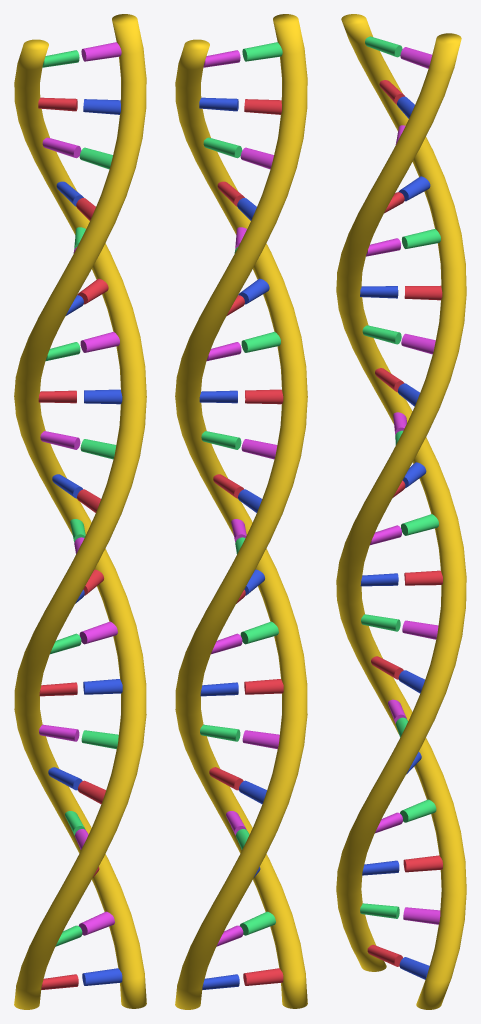
File: DNARenamed.fbx
The picture shows the model from 3 angles, left to right: view 1: azimuth 30°, elevation 25°; view 2: azimuth 210°, elevation 25°; view 3: azimuth 330°, elevation 25°; orthographic projection.
Visible parts, largest first — view 1: Cylinder, Blue.009, Blue.006, Pink.001, Pink.004, Blue.003, Blue, Pink.007, Green.008, Green.005, Pink, Pink.008 (+15 smaller); view 2: Cylinder, Red.009, Red.006, Green.001, Green.004, Red.003, Red, Green.007, Pink.008, Green, Pink.005, Green.008 (+15 smaller); view 3: Cylinder, Red.008, Red.005, Green.003, Pink, Green.006, Red.002, Pink.007, Green.009, Green, Pink.004, Green.007 (+15 smaller).
Boxes of the visible parts, left/top/right/bottom form: Cylinder: left=14, top=14, right=146, bottom=1009; Blue.009: left=82, top=968, right=122, bottom=985; Blue.006: left=83, top=679, right=122, bottom=694; Pink.001: left=81, top=42, right=121, bottom=61; Pink.004: left=80, top=331, right=119, bottom=352; Blue.003: left=84, top=389, right=122, bottom=404; Blue: left=83, top=99, right=120, bottom=114; Pink.007: left=79, top=621, right=117, bottom=644; Green.008: left=81, top=730, right=118, bottom=749; Green.005: left=80, top=439, right=116, bottom=459; Pink: left=78, top=911, right=114, bottom=935; Pink.008: left=39, top=724, right=79, bottom=741; Cylinder: left=175, top=14, right=307, bottom=1009; Red.009: left=243, top=968, right=283, bottom=985; Red.006: left=244, top=679, right=283, bottom=694; Green.001: left=242, top=42, right=282, bottom=61; Green.004: left=241, top=331, right=280, bottom=352; Red.003: left=245, top=389, right=283, bottom=404; Red: left=244, top=99, right=281, bottom=114; Green.007: left=240, top=621, right=278, bottom=644; Pink.008: left=242, top=730, right=279, bottom=749; Green: left=239, top=911, right=275, bottom=935; Pink.005: left=241, top=439, right=277, bottom=459; Green.008: left=200, top=724, right=240, bottom=741; Cylinder: left=336, top=14, right=466, bottom=1009; Red.008: left=403, top=855, right=442, bottom=872; Red.005: left=404, top=570, right=442, bottom=585; Green.003: left=402, top=229, right=440, bottom=248; Pink: left=403, top=907, right=440, bottom=924; Green.006: left=401, top=514, right=438, bottom=535; Red.002: left=404, top=285, right=442, bottom=300; Pink.007: left=402, top=620, right=438, bottom=639; Green.009: left=400, top=799, right=436, bottom=822; Green: left=360, top=903, right=399, bottom=918; Pink.004: left=401, top=333, right=435, bottom=354; Green.007: left=361, top=614, right=400, bottom=631.
Size of the model in its own units: 104 by 841 by 104.
